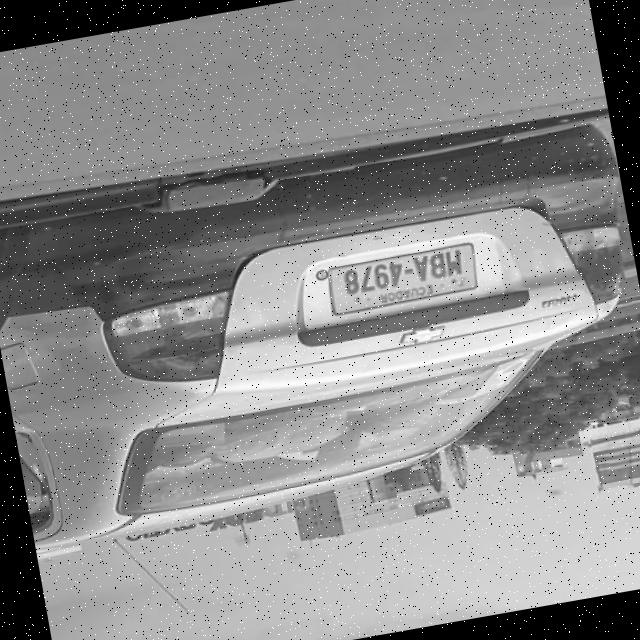Placa: (324, 243, 479, 315)
